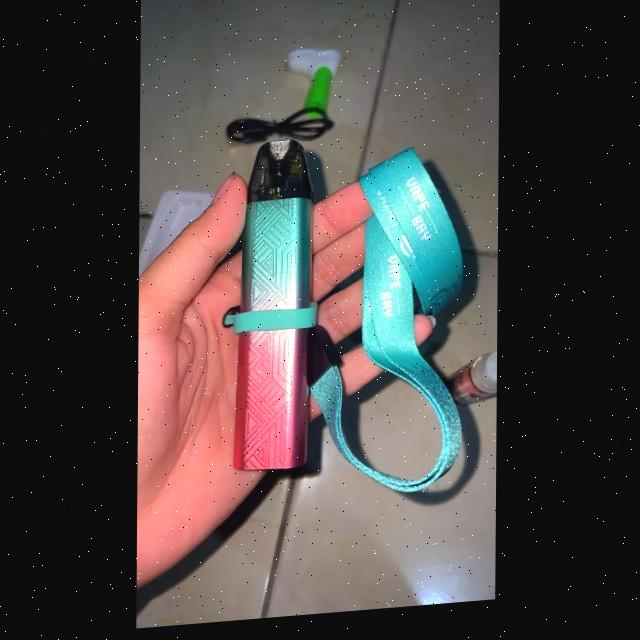vape: (234, 142, 311, 481)
